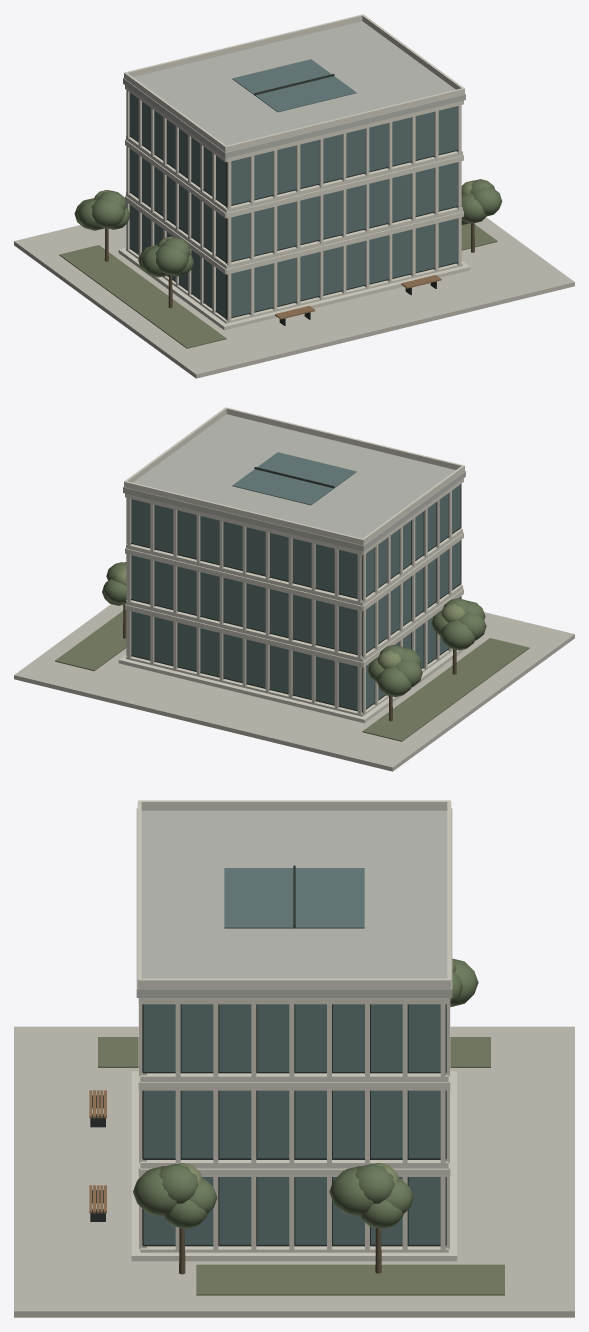
The model's file is atrium.glb.
3 views of the same model, one above another, from view 1: azimuth 30°, elevation 25°; view 2: azimuth 150°, elevation 25°; view 3: azimuth 270°, elevation 25° (orthographic). The views are drawn at different scales.
Parts seen in each view (by area): view 1: site_paving, roof_roof, level_03_glass, level_02_glass, level_01_glass, level_02_mineral, level_03_mineral, level_01_mineral, landscape_grass, roof_mineral, landscape_leaf, roof_glass (+5 smaller); view 2: site_paving, roof_roof, level_02_glass, level_03_glass, level_01_glass, level_02_mineral, level_03_mineral, landscape_grass, level_01_mineral, roof_mineral, landscape_leaf, roof_glass (+5 smaller); view 3: site_paving, roof_roof, level_02_glass, level_03_glass, landscape_grass, level_01_glass, level_02_mineral, level_03_mineral, roof_mineral, landscape_leaf, roof_glass, level_01_mineral (+5 smaller).
Part boxes in pixels (bbox=[...]): site_paving: bbox=[14, 217, 574, 378]; roof_roof: bbox=[123, 21, 465, 158]; level_03_glass: bbox=[129, 92, 457, 205]; level_02_glass: bbox=[129, 149, 457, 261]; level_01_glass: bbox=[129, 205, 457, 317]; level_02_mineral: bbox=[125, 139, 463, 269]; level_03_mineral: bbox=[125, 85, 463, 212]; level_01_mineral: bbox=[125, 195, 463, 323]; landscape_grass: bbox=[59, 223, 497, 348]; roof_mineral: bbox=[124, 14, 464, 152]; landscape_leaf: bbox=[74, 179, 502, 277]; roof_glass: bbox=[232, 59, 356, 112]; site_paving: bbox=[14, 604, 574, 771]; roof_roof: bbox=[123, 414, 465, 551]; level_02_glass: bbox=[131, 540, 460, 653]; level_03_glass: bbox=[131, 484, 460, 597]; level_01_glass: bbox=[131, 597, 460, 710]; level_02_mineral: bbox=[125, 532, 463, 662]; level_03_mineral: bbox=[125, 478, 463, 605]; landscape_grass: bbox=[55, 611, 529, 741]; level_01_mineral: bbox=[125, 588, 463, 716]; roof_mineral: bbox=[124, 407, 464, 545]; landscape_leaf: bbox=[102, 562, 486, 696]; roof_glass: bbox=[232, 452, 356, 505]; site_paving: bbox=[14, 1026, 574, 1317]; roof_roof: bbox=[136, 808, 452, 997]; level_02_glass: bbox=[143, 1090, 440, 1158]; level_03_glass: bbox=[143, 1004, 440, 1071]; landscape_grass: bbox=[98, 1037, 504, 1295]; level_01_glass: bbox=[143, 1177, 440, 1244]; level_02_mineral: bbox=[138, 1004, 450, 1168]; level_03_mineral: bbox=[138, 998, 450, 1082]; roof_mineral: bbox=[137, 800, 451, 988]; landscape_leaf: bbox=[133, 958, 478, 1229]; roof_glass: bbox=[224, 868, 364, 928]; level_01_mineral: bbox=[138, 1090, 450, 1252].
Bounding box in the file's own units: 24 × 11.21 × 20.
